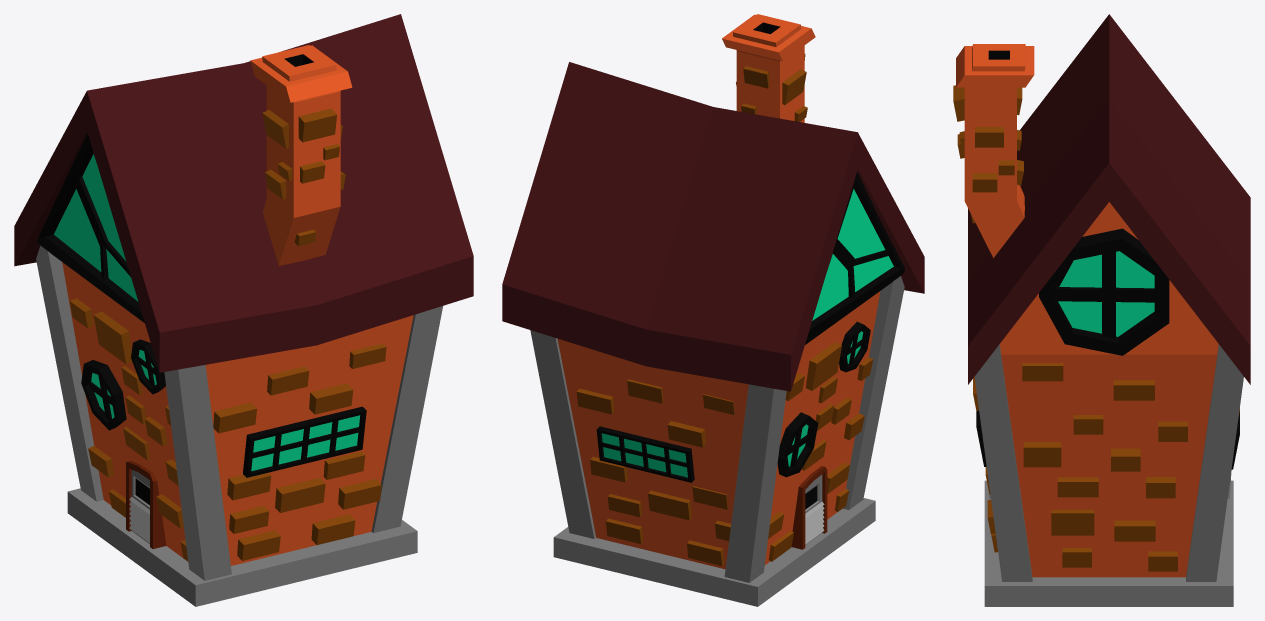
File: CasaChamine.fbx
3 views of the same model, side by side, from view 1: azimuth 30°, elevation 25°; view 2: azimuth 150°, elevation 25°; view 3: azimuth 270°, elevation 25° (orthographic). The views are drawn at different scales.
Parts seen in each view (by area): view 1: CasaChamine; view 2: CasaChamine; view 3: CasaChamine.
Part boxes in pixels (x1,y1,x2,y2): CasaChamine: (14,14,473,606); CasaChamine: (502,14,924,606); CasaChamine: (953,14,1250,606).
Bounding box in the file's own units: 823 × 1287 × 695.
